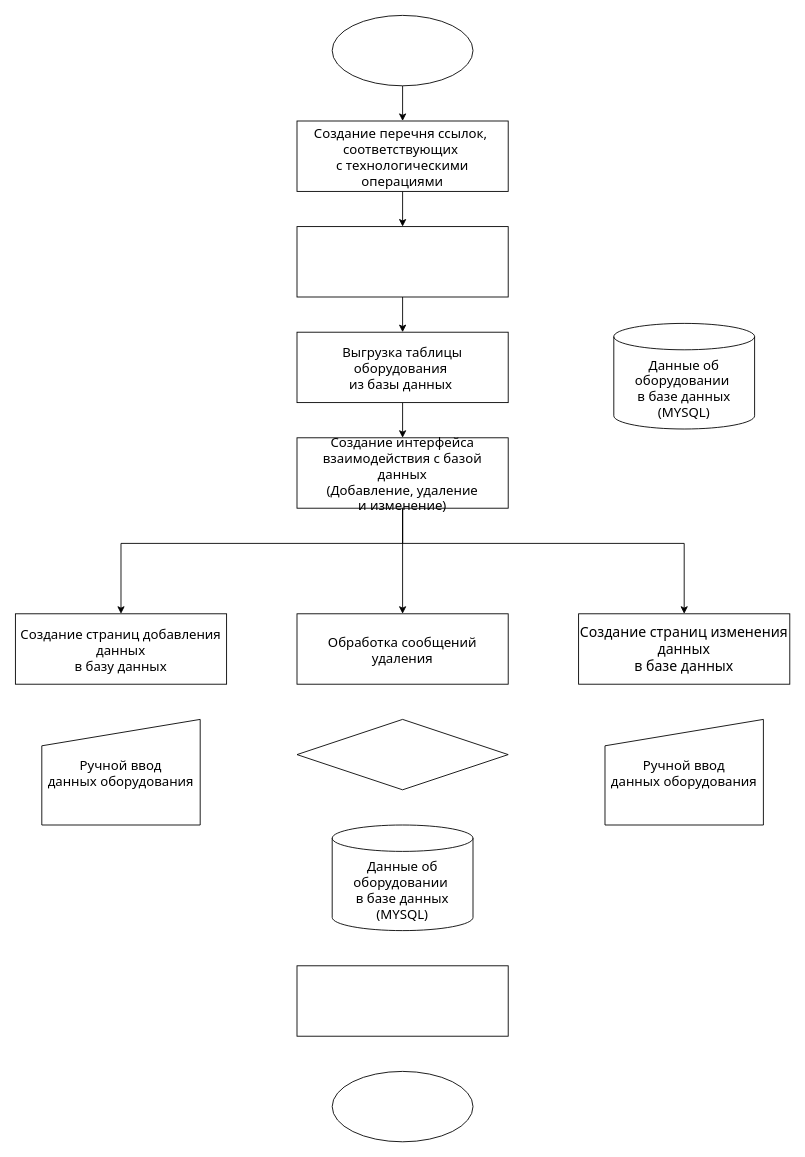
The diagram is 805 pixels wide and 1157 high, and some of its shapes have lost their labels. The shapes that lost their labels are listed below. From the top down, each one's box as (x1, y1, x2, y2) in pixels, then its label:
(331, 15, 473, 86): НАЧАЛО
(296, 226, 508, 297): Создание страниц таблицы перечня оборудования по каждой технологической операции
(296, 719, 508, 790): Сообщение подтверждения
(296, 965, 508, 1036): Возвращение на основную страницу
(331, 1071, 473, 1142): КОНЕЦ
